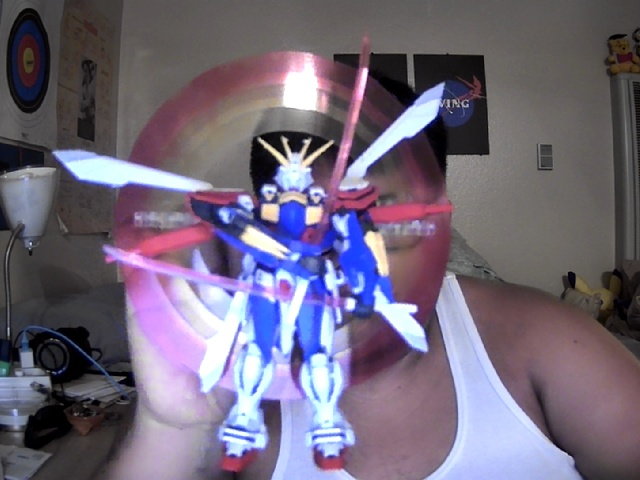God: (50, 50, 455, 479)
